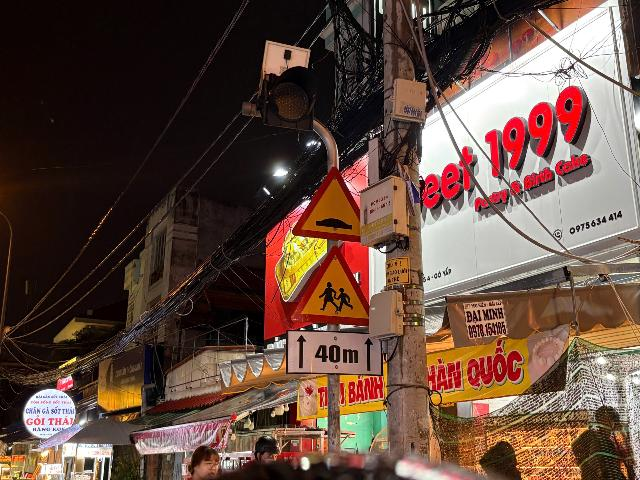duong-co-go-giam-toc: (291, 164, 360, 242)
tre-em-qua-duong: (292, 246, 370, 327)
